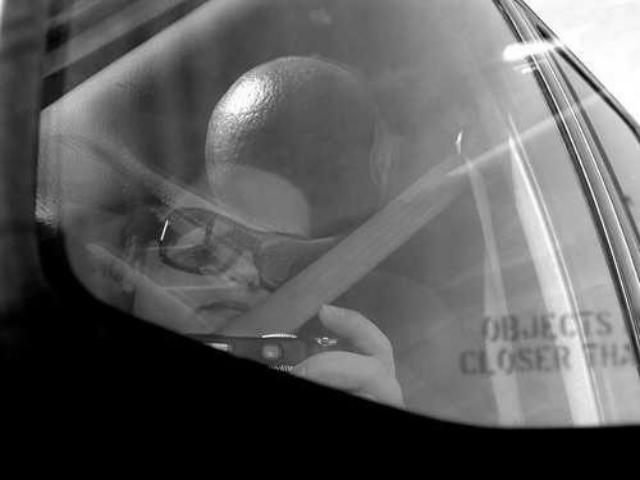Seatbelt: (206, 138, 480, 338)
